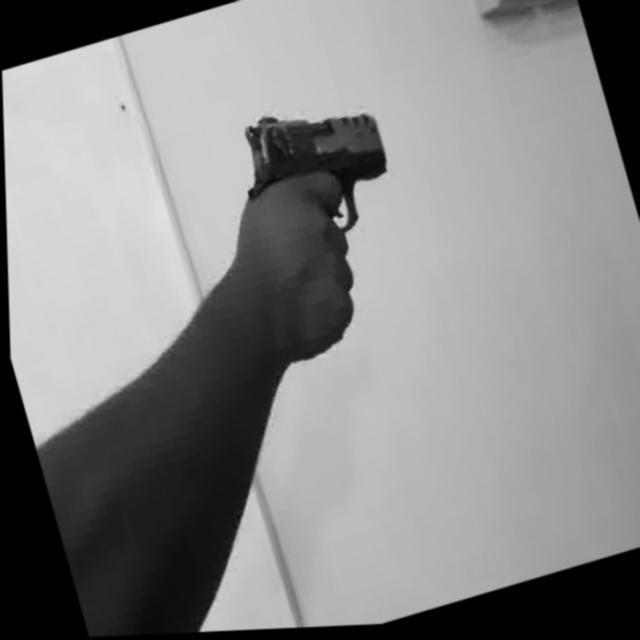weapon: (228, 84, 402, 257)
